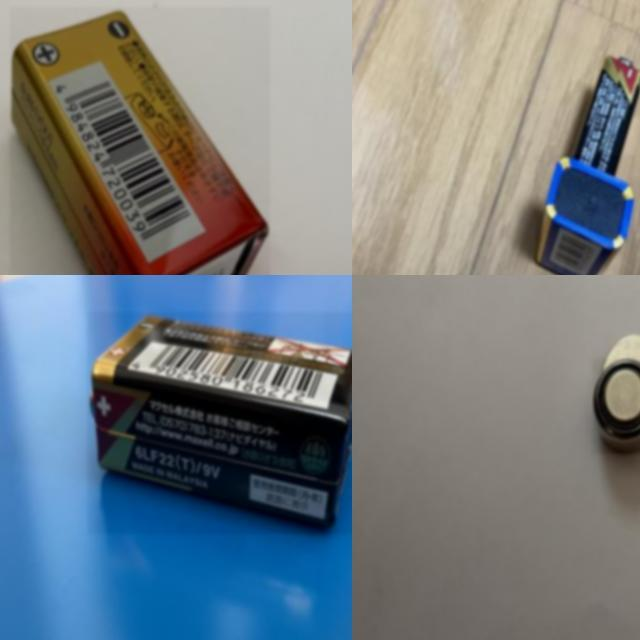9V: (10, 7, 270, 275), (87, 312, 352, 533), (535, 155, 635, 275), (569, 53, 640, 178)
